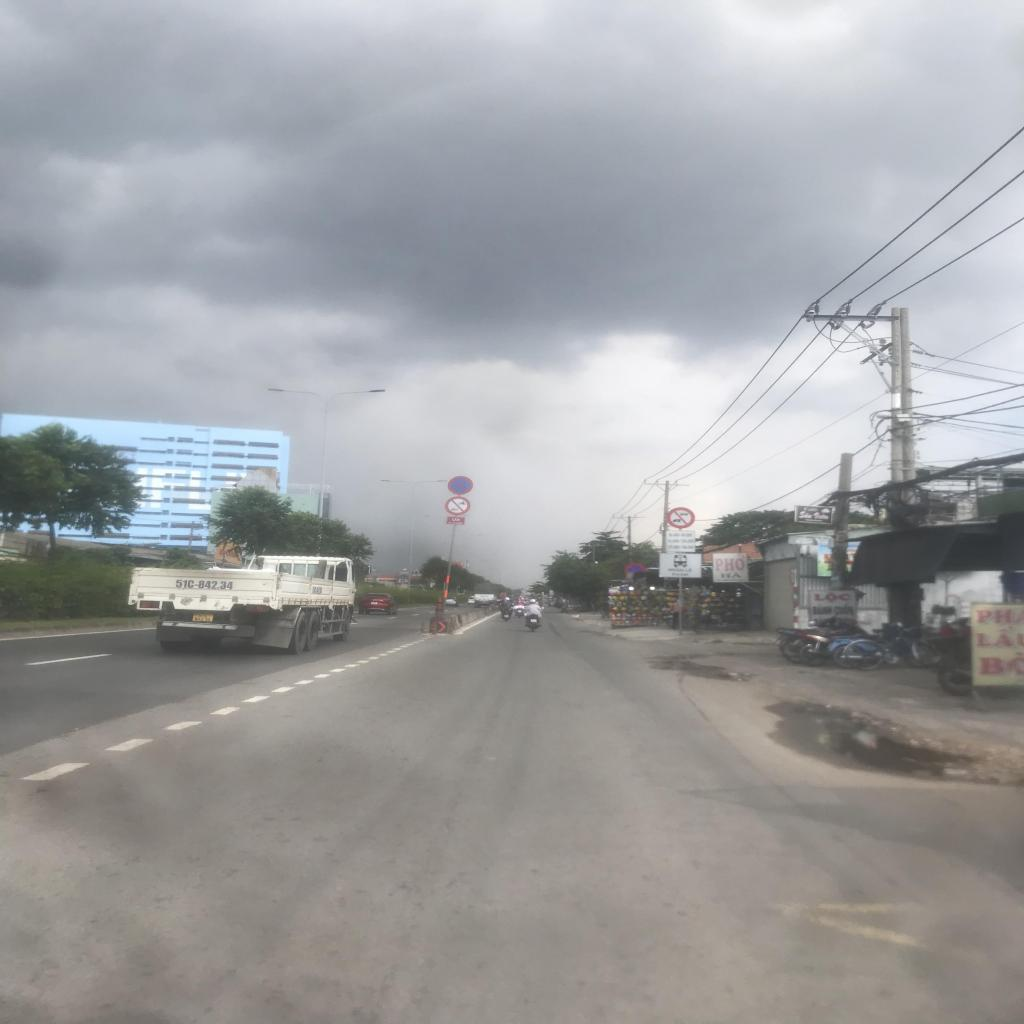cam_dung_xe_va_do_xe: (448, 476, 473, 495), (624, 563, 646, 574)
cam_o_to_tai_va_xe_khach: (666, 507, 695, 528)
cam_xe_2_banh_va_xe_3_banh_co_dong_co: (445, 496, 470, 515)
khac: (658, 553, 702, 578), (666, 531, 696, 552)
